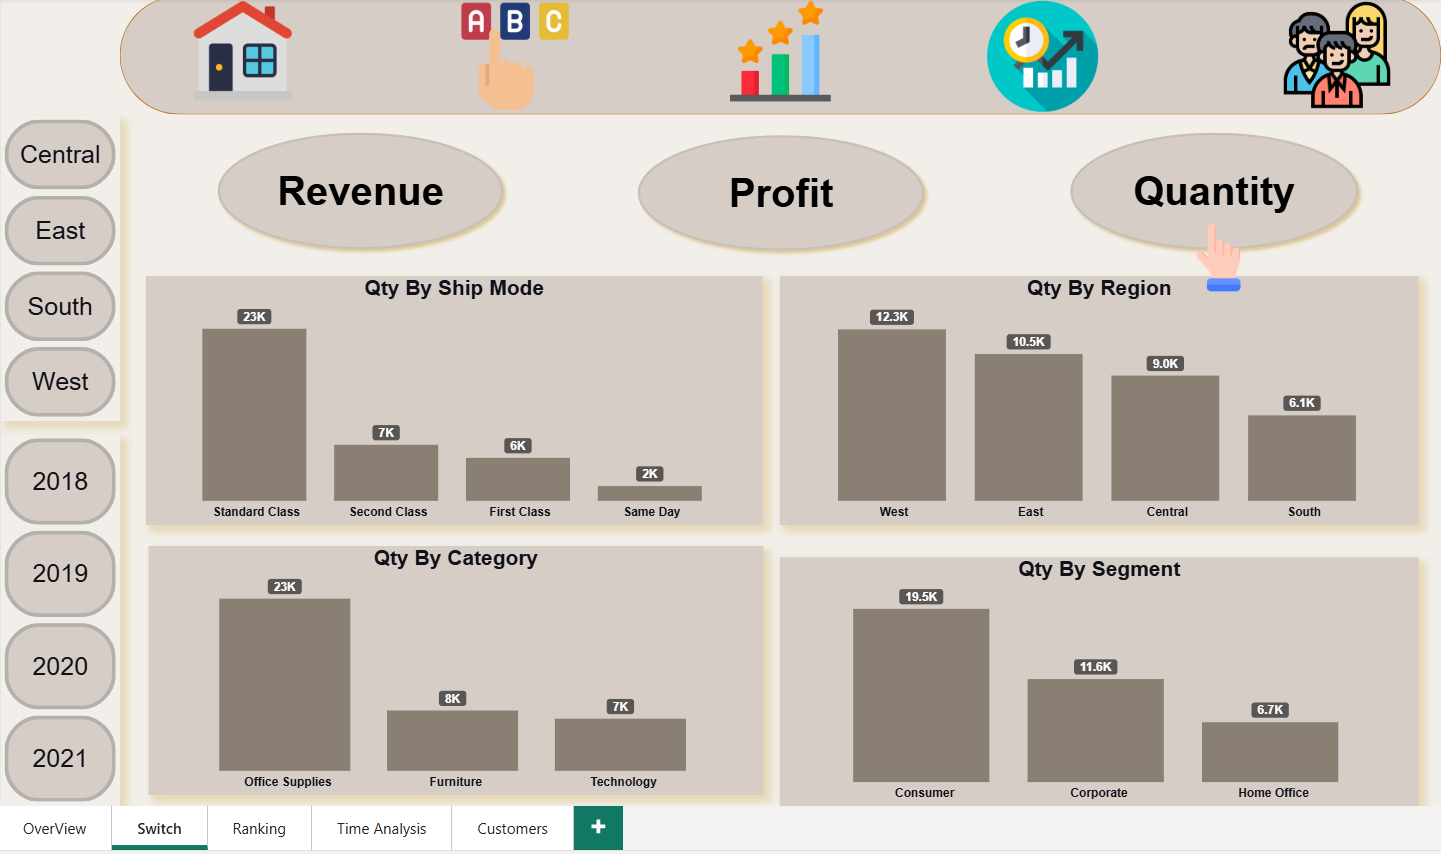

The page's visual inventory and layout, read from the dashboard file:
{"tool":"powerbi","page":{"name":"Switch","canvas":[1920,1080],"ordinal":1},"visuals":[{"type":"shape","box":[158,0,1762,158],"z":0},{"type":"actionButton","title":"Button_qty","box":[1416,174,402,174],"z":2000},{"type":"actionButton","title":"Button_profit","box":[840,176,400,172],"z":3000},{"type":"actionButton","title":"Button_rev","box":[280.7,173.4,398.7,173.4],"z":4000},{"type":"clusteredColumnChart","title":"Qty By Ship Mode","fields":{"Category":["Dim_Order.Ship Mode"],"Y":["Dax.Total_Quantity"]},"box":[194,374,822,332],"z":9000},{"type":"clusteredColumnChart","title":"Qty By Region","fields":{"Category":["Dim_Customer.Region"],"Y":["Dax.Total_Quantity"]},"box":[1038,374,852,332],"z":11000},{"type":"clusteredColumnChart","title":"Qty By Category","fields":{"Category":["Dim_Product.Category"],"Y":["Dax.Total_Quantity"]},"box":[196,734,820,332],"z":13000},{"type":"clusteredColumnChart","title":"Qty By Segment","fields":{"Category":["Dim_Order.Segment"],"Y":["Dax.Total_Quantity"]},"box":[1038,748,852,332],"z":15000},{"type":"image","title":"Image_qty","box":[1564,246,120,204],"z":17000},{"type":"image","box":[230.7,0,184.2,144.8],"z":19000},{"type":"image","box":[606,2,158,158],"z":20000},{"type":"image","box":[1704,0,156,158],"z":21000},{"type":"image","box":[960,2,158,144],"z":22000},{"type":"image","box":[1310,2,158,158],"z":23000},{"type":"advancedSlicerVisual","fields":{"Values":["Dim_Customer.Region"]},"box":[0,160,158.3,406.7],"z":24000},{"type":"advancedSlicerVisual","fields":{"Values":["Calendar_Table.Year"]},"box":[0,585.7,158.6,494.3],"z":25000}]}

Visuals, with their boxes on the page's 1920x1080 design canvas (x1, y1, x2, y2). These are canvas units, not pixel positions in the 1441x854 screenshot, which may show the page scaled, cropped or inside an application window:
shape: box(158, 0, 1920, 158)
"Button_qty" actionButton: box(1416, 174, 1818, 348)
"Button_profit" actionButton: box(840, 176, 1240, 348)
"Button_rev" actionButton: box(281, 173, 679, 347)
"Qty By Ship Mode" clusteredColumnChart: box(194, 374, 1016, 706)
"Qty By Region" clusteredColumnChart: box(1038, 374, 1890, 706)
"Qty By Category" clusteredColumnChart: box(196, 734, 1016, 1066)
"Qty By Segment" clusteredColumnChart: box(1038, 748, 1890, 1080)
"Image_qty" image: box(1564, 246, 1684, 450)
image: box(231, 0, 415, 145)
image: box(606, 2, 764, 160)
image: box(1704, 0, 1860, 158)
image: box(960, 2, 1118, 146)
image: box(1310, 2, 1468, 160)
advancedSlicerVisual - Dim_Customer.Region: box(0, 160, 158, 567)
advancedSlicerVisual - Calendar_Table.Year: box(0, 586, 159, 1080)
